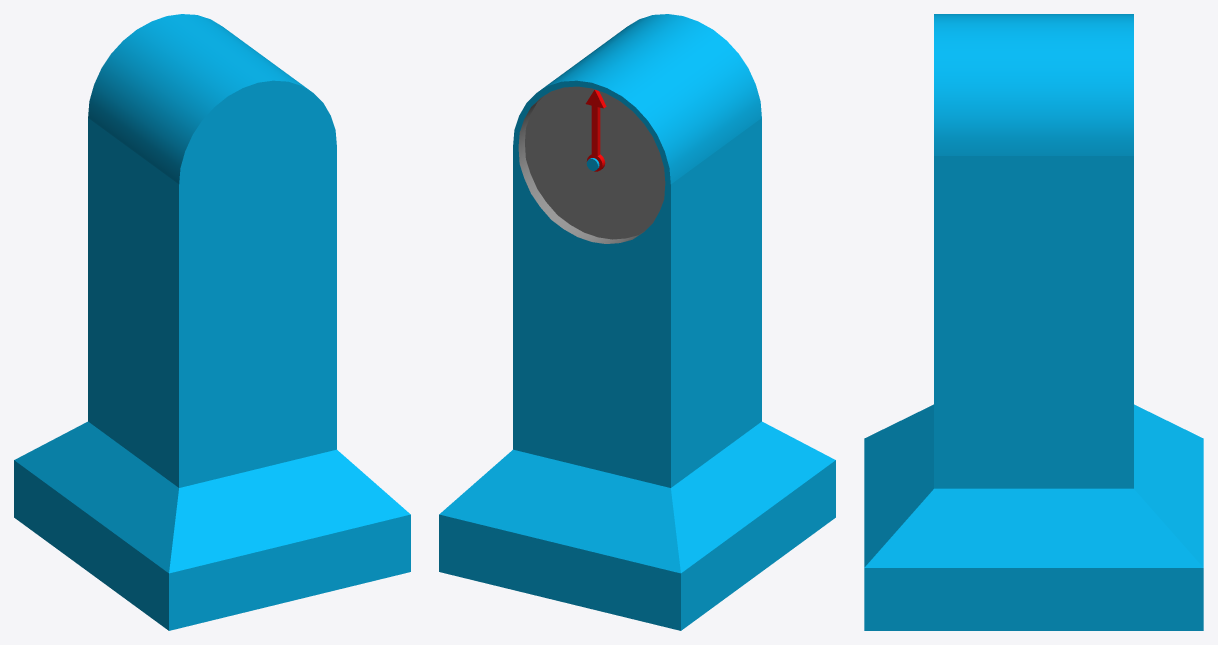
Rendered from ClockTower.FBX.
3 views of the same model, side by side, from view 1: azimuth 30°, elevation 25°; view 2: azimuth 150°, elevation 25°; view 3: azimuth 270°, elevation 25° (orthographic). The views are drawn at different scales.
Visible parts, largest first — view 1: Clock; view 2: Clock, Pointer; view 3: Clock.
Boxes of the visible parts, box(x1,y1,x2,y2) form: Clock: box(14, 14, 410, 630); Clock: box(439, 14, 835, 630); Pointer: box(585, 89, 606, 171); Clock: box(864, 14, 1203, 630).
Size of the model in its own units: 60.33 by 118 by 66.93.
